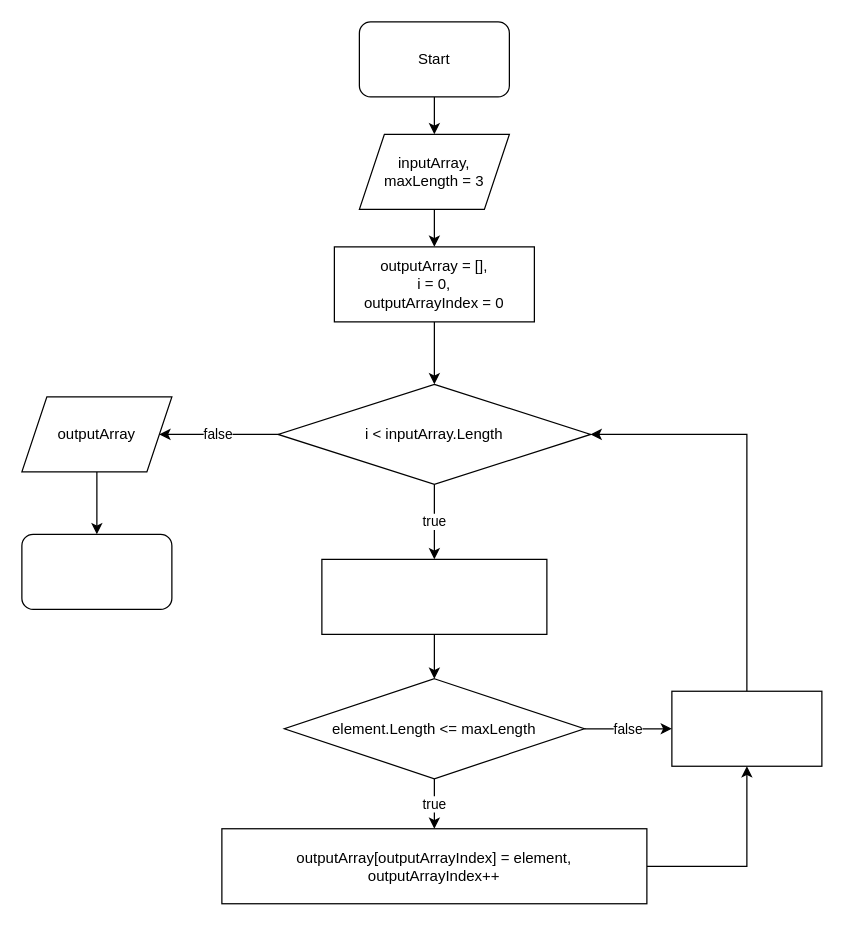
The diagram is 844 pixels wide and 926 high, and some of its shapes have lost their labels. Each missing label, with the centre of its shape:
element = inputArray[i]: point 434,596
End: point 96,571
i++: point 746,728
